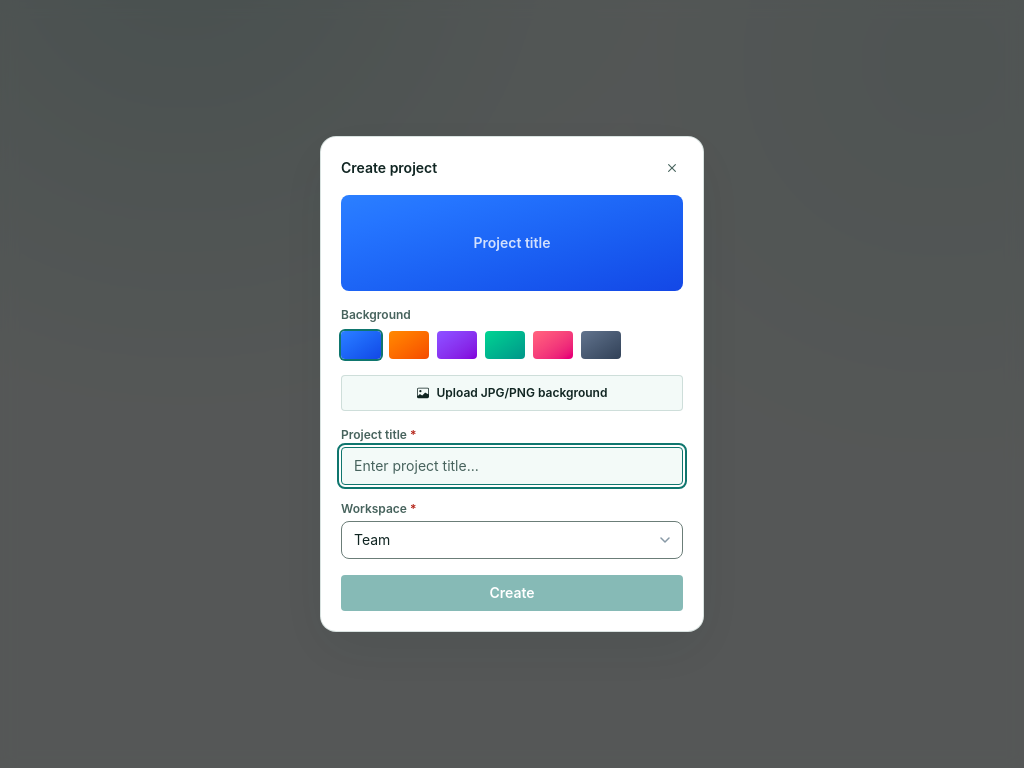
Test: create-project dialog viewport safety › keeps the primary action inside the bounded panel
Type "Ship audit" into the field labelled "Project title *". click: coordinates (512, 466)
box: x1=341 y1=447 x2=683 y2=485
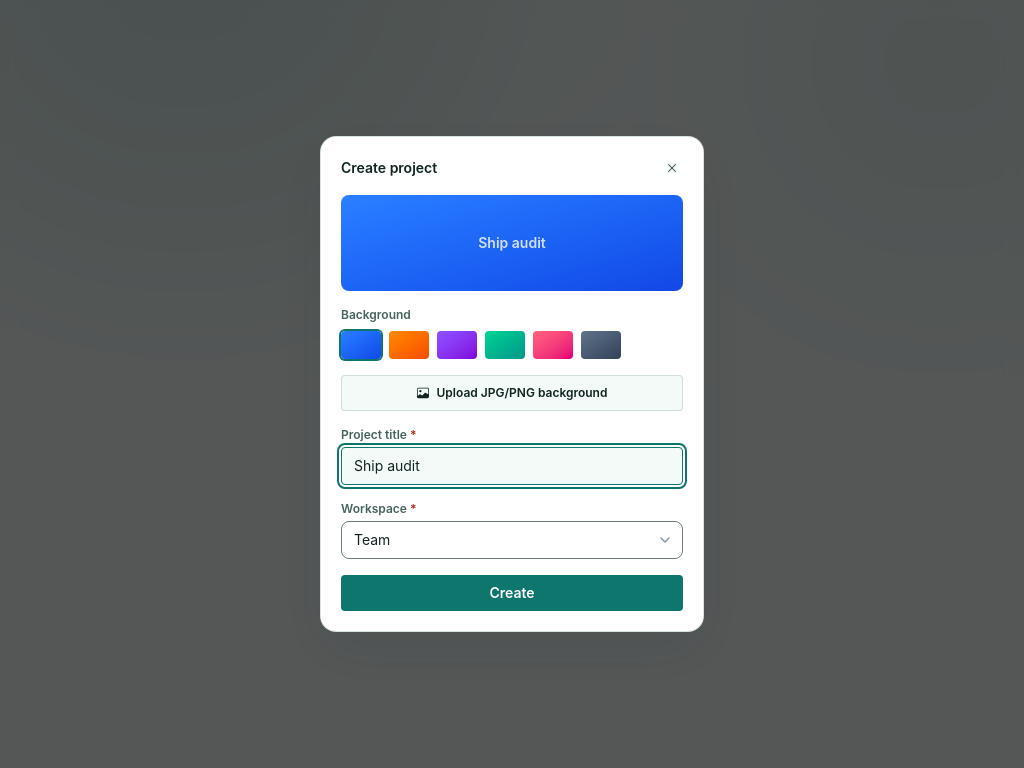
expect the button "Create" is enabled: met, box x1=341 y1=575 x2=683 y2=611
